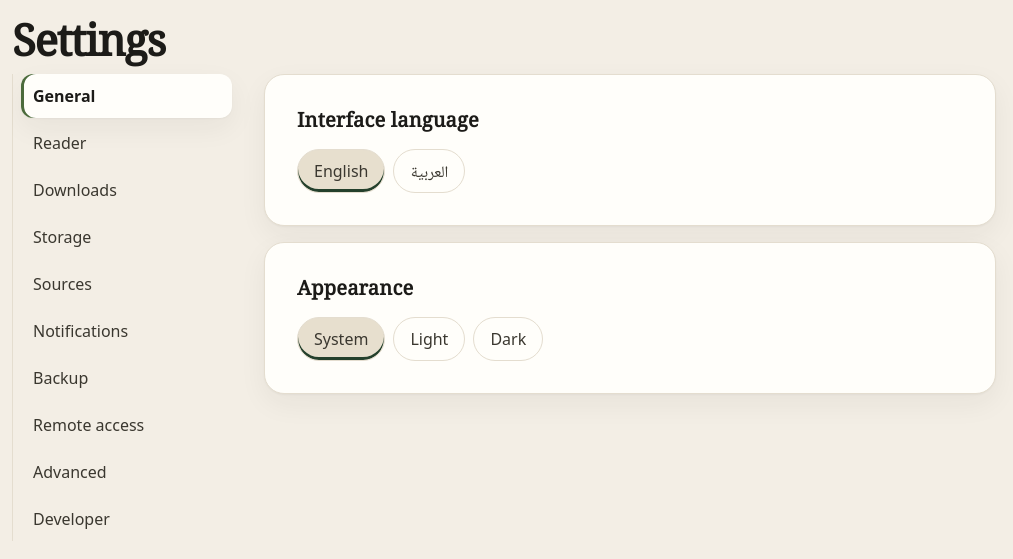
Scenario: Settings › shows storage locations with their free space and reserve
Expected: the element named "settings" is shown, [12,74,232,542]
Click the tab "Storage". click: (126, 238)
box: [21,216,232,260]
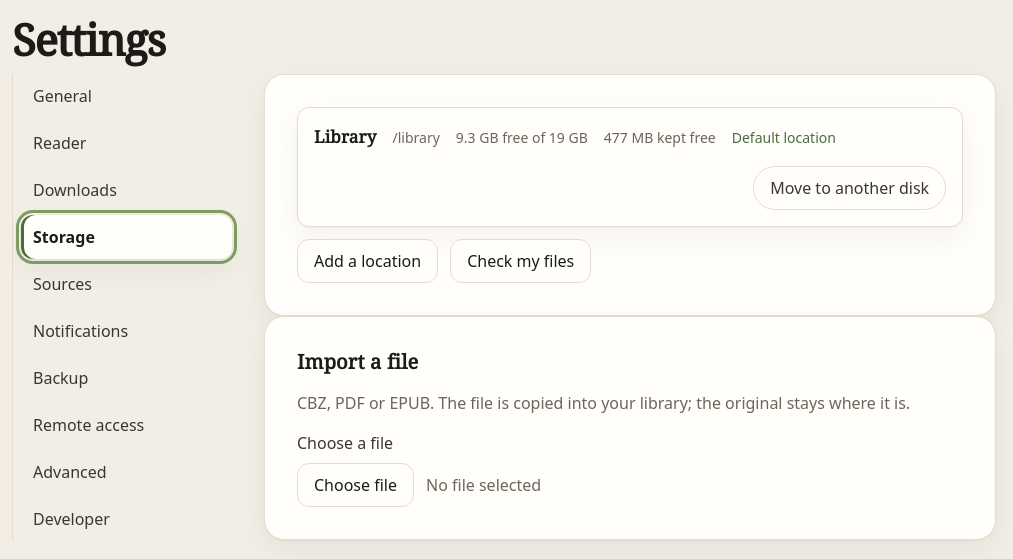
Result: the text "Library" is shown at [314,124,376,150]
Result: the text "9.3 GB free of 19 GB" is shown at [456,127,588,148]
Result: the text "477 MB kept free" is shown at [604,127,716,148]
